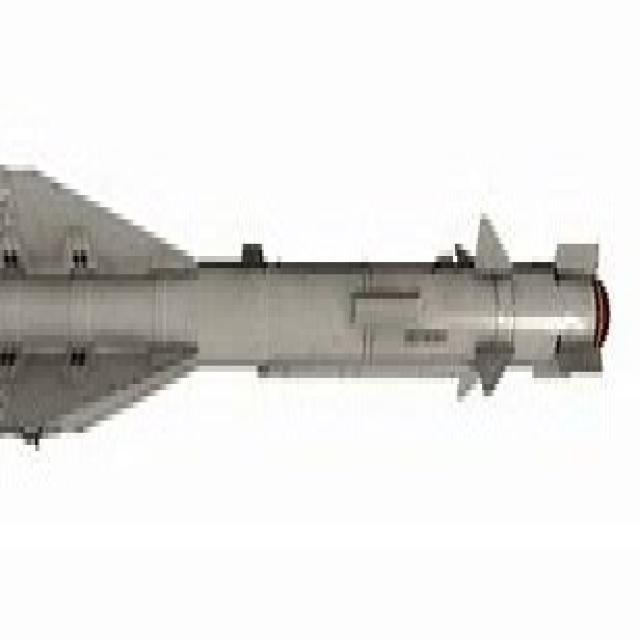missile: (0, 167, 609, 444)
